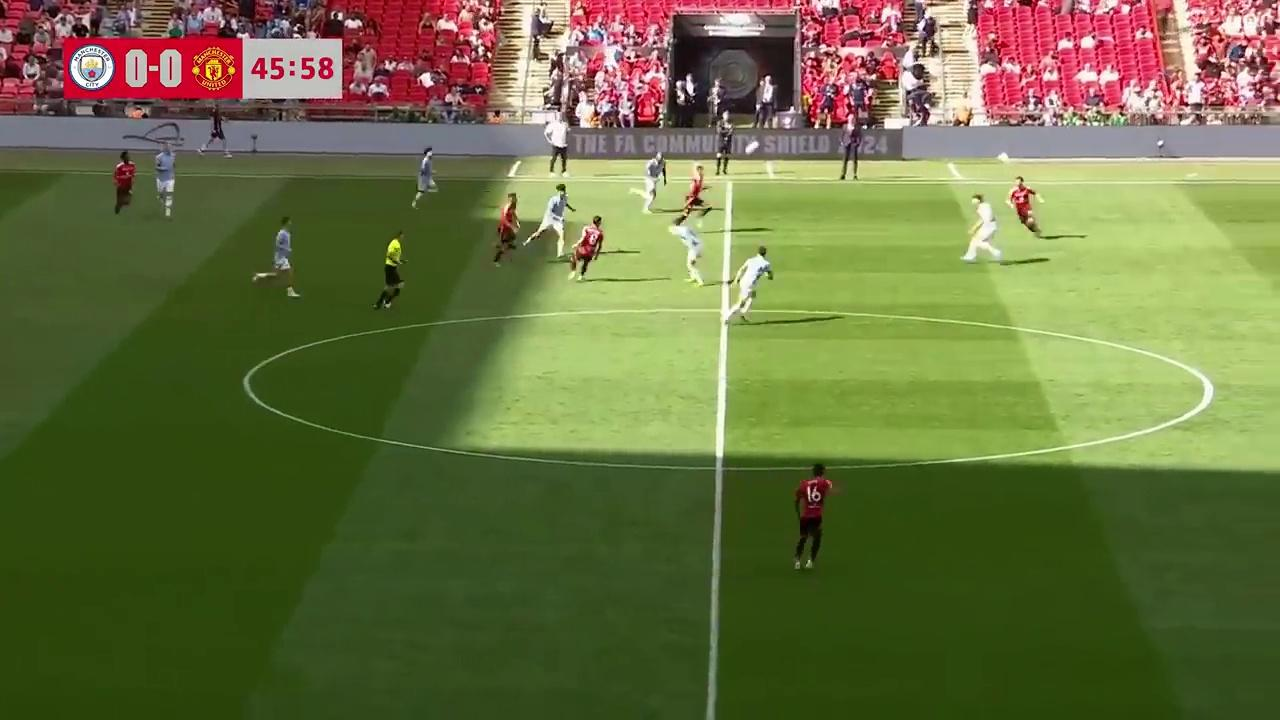player: (792, 463, 840, 571), (252, 216, 301, 299), (527, 184, 574, 250), (733, 248, 772, 323), (567, 215, 605, 280), (669, 216, 704, 285), (960, 211, 1003, 264), (1006, 177, 1043, 237), (491, 194, 520, 266), (962, 195, 997, 250), (676, 165, 709, 221), (154, 142, 176, 218), (411, 147, 438, 208), (113, 151, 136, 214), (642, 155, 666, 213)
referee: (373, 231, 408, 311)
